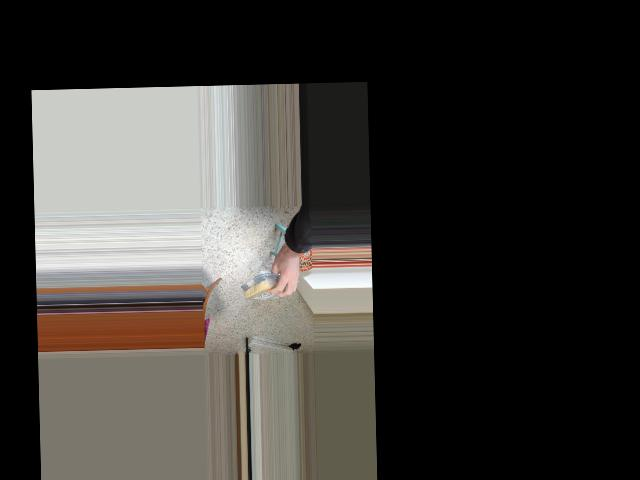cheese: (240, 276, 287, 300)
